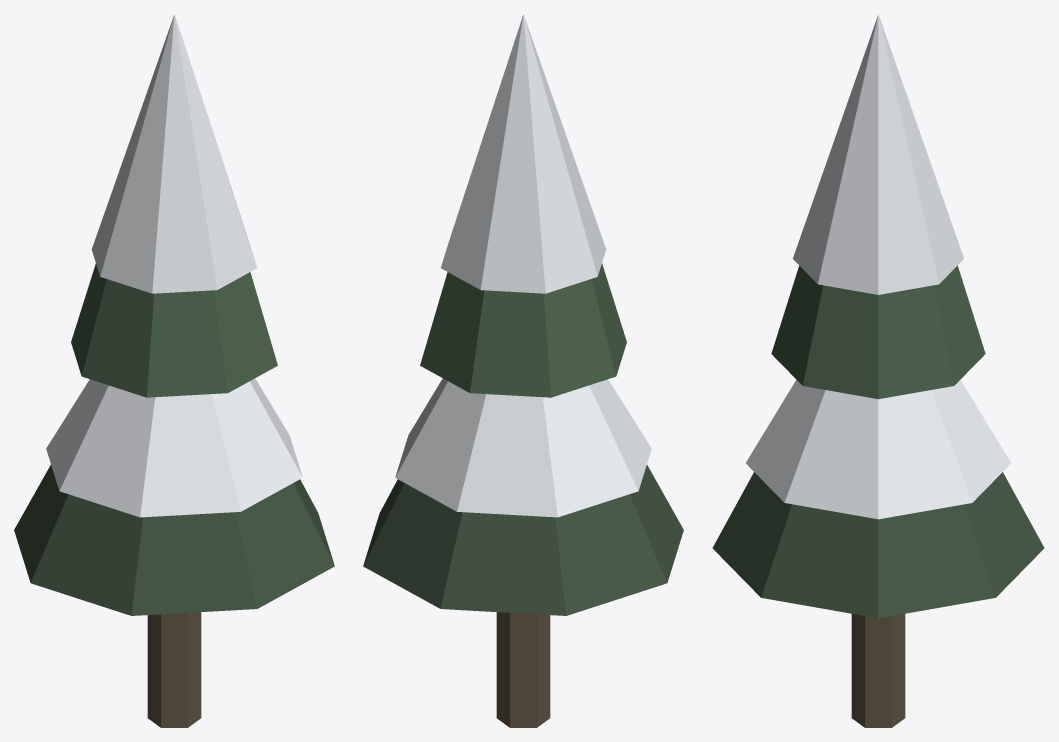
The model's file is prop_snow_pine.glb.
3 renders of one model, left to right at view 1: azimuth 30°, elevation 25°; view 2: azimuth 150°, elevation 25°; view 3: azimuth 270°, elevation 25°, orthographic.
Visible parts, largest first — view 1: accent_needles_0, trim_snow_0, trim_snow_1, accent_needles_1, body_trunk; view 2: accent_needles_0, trim_snow_0, trim_snow_1, accent_needles_1, body_trunk; view 3: accent_needles_0, trim_snow_0, trim_snow_1, accent_needles_1, body_trunk.
Boxes of the visible parts, box(x1,y1,x2,y2) form: accent_needles_0: box(14, 465, 334, 615); trim_snow_0: box(46, 378, 302, 517); trim_snow_1: box(91, 14, 256, 293); accent_needles_1: box(71, 263, 277, 397); body_trunk: box(147, 612, 201, 727); accent_needles_0: box(363, 465, 683, 615); trim_snow_0: box(395, 378, 651, 517); trim_snow_1: box(441, 14, 606, 293); accent_needles_1: box(420, 263, 626, 397); body_trunk: box(496, 612, 550, 727); accent_needles_0: box(712, 472, 1044, 618); trim_snow_0: box(746, 380, 1010, 519); trim_snow_1: box(793, 14, 963, 294); accent_needles_1: box(771, 265, 985, 399); body_trunk: box(851, 614, 905, 727).
Size of the model in its own units: 1.24 by 2.9 by 1.24.
